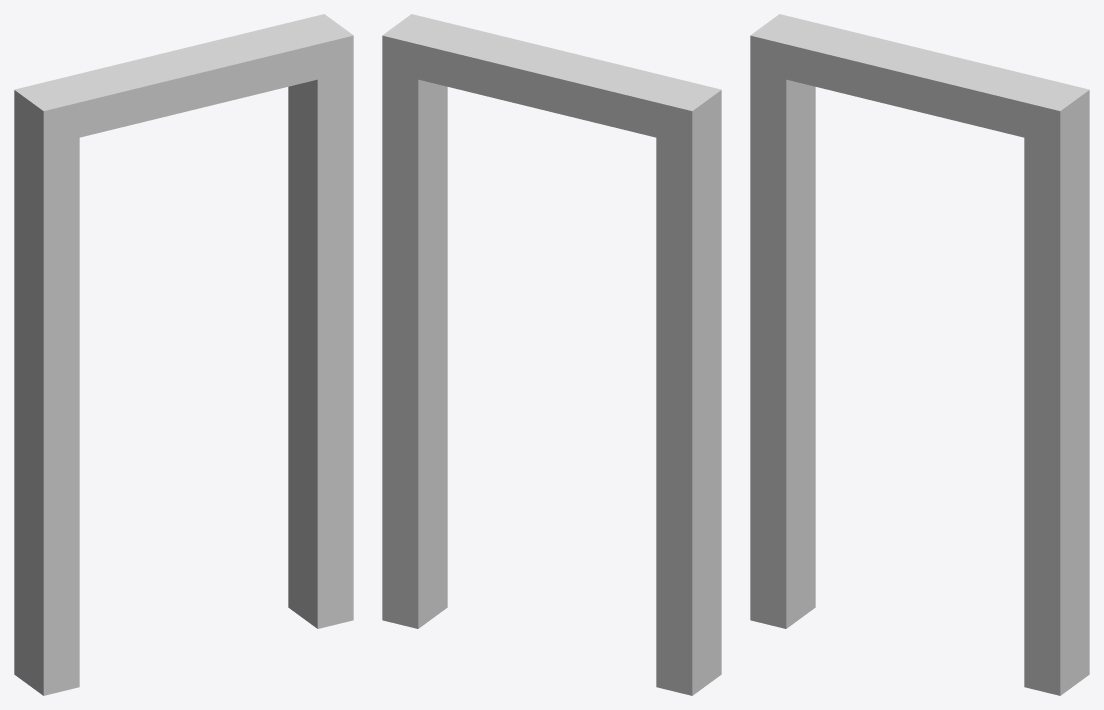
Rendered from MarcoPuerta01.fbx.
The picture shows the model from 3 angles, left to right: view 1: azimuth 30°, elevation 25°; view 2: azimuth 150°, elevation 25°; view 3: azimuth 330°, elevation 25°; orthographic projection.
Parts seen in each view (by area): view 1: MarcoPuerta01; view 2: MarcoPuerta01; view 3: MarcoPuerta01.
Part boxes in pixels (bbox=[...]): MarcoPuerta01: bbox=[14, 14, 353, 695]; MarcoPuerta01: bbox=[382, 14, 721, 695]; MarcoPuerta01: bbox=[750, 14, 1089, 695].
Size of the model in its own units: 160 by 287 by 26.23.
